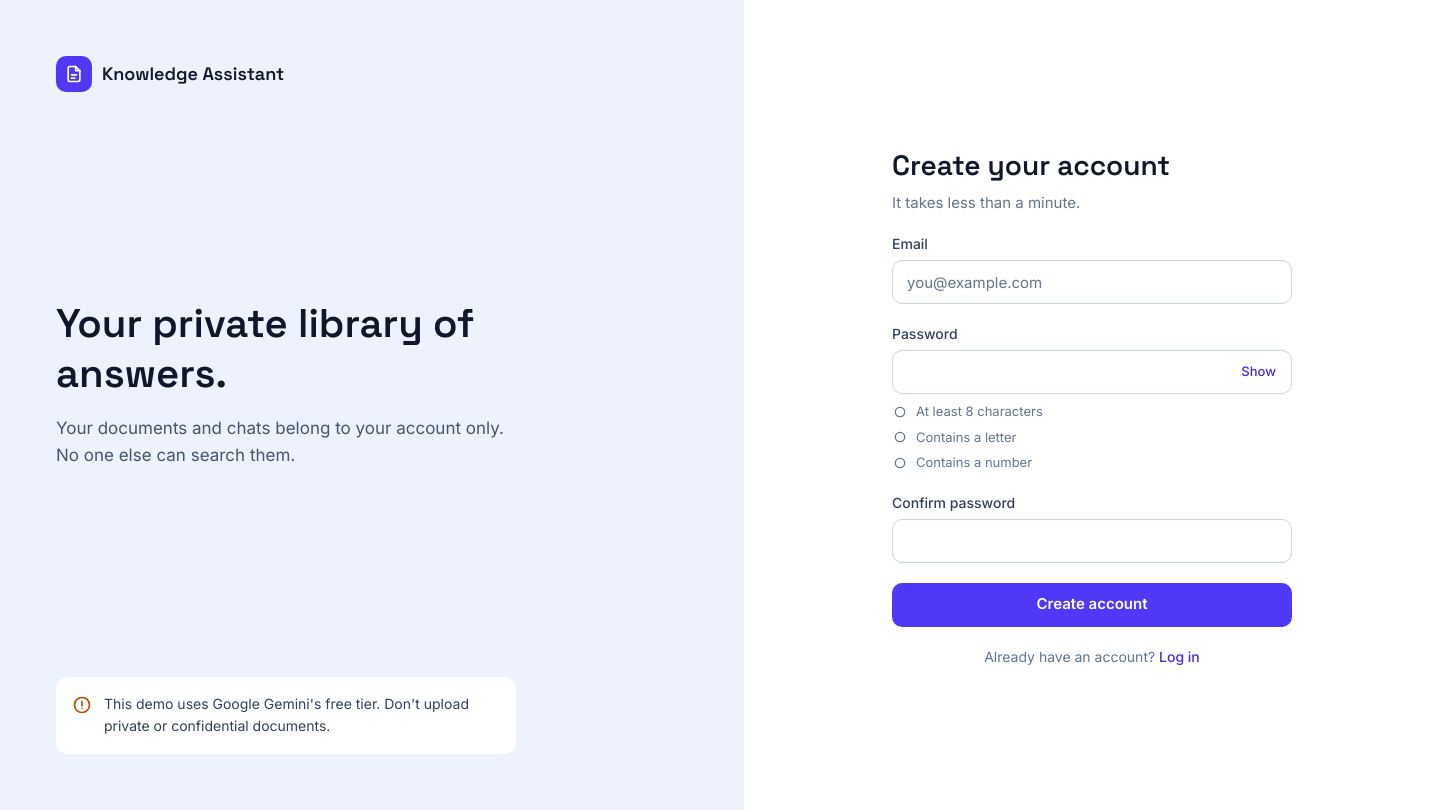
Test: RegisterPage › doesn't submit when the passwords don't match
The width and height of the screenshot is (1440, 810).
Type "new@example.com" into the field labelled "Email" at (1092, 282), box [892, 260, 1292, 304]
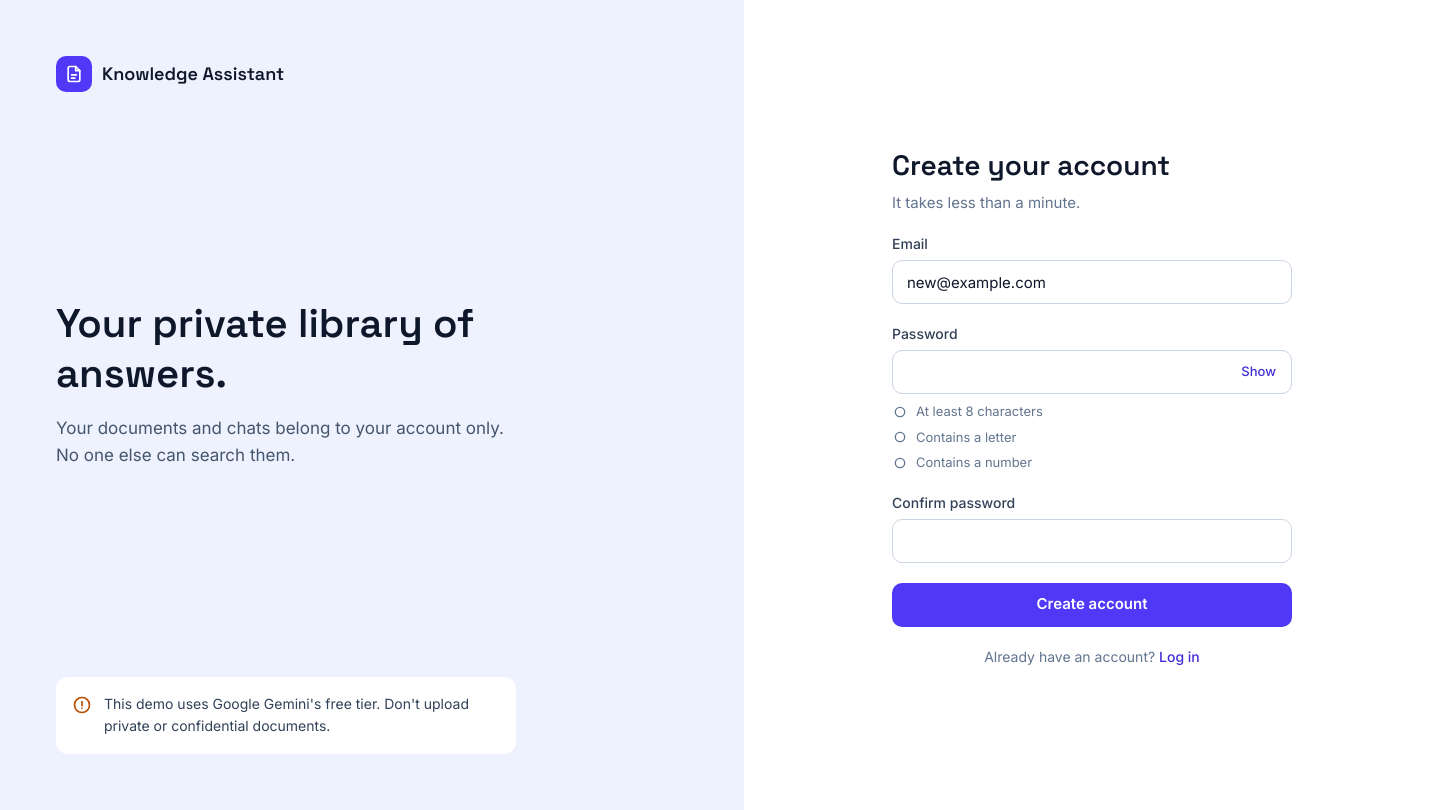
Type "Test12345" into the password field labelled "Password" at (1092, 372), box [892, 350, 1292, 394]
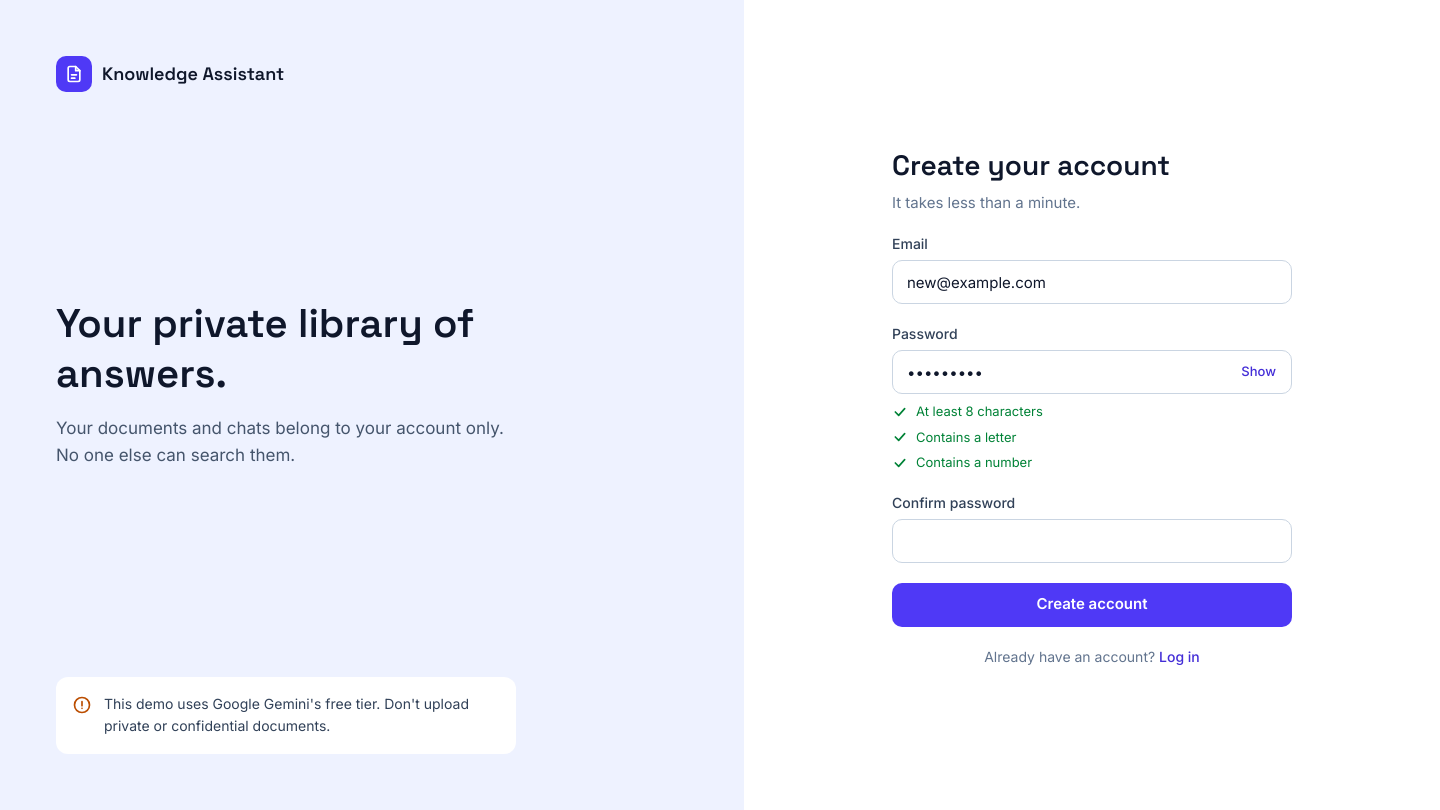
Type "Different123" into the password field labelled "Confirm password" at (1092, 540), box [892, 518, 1292, 562]
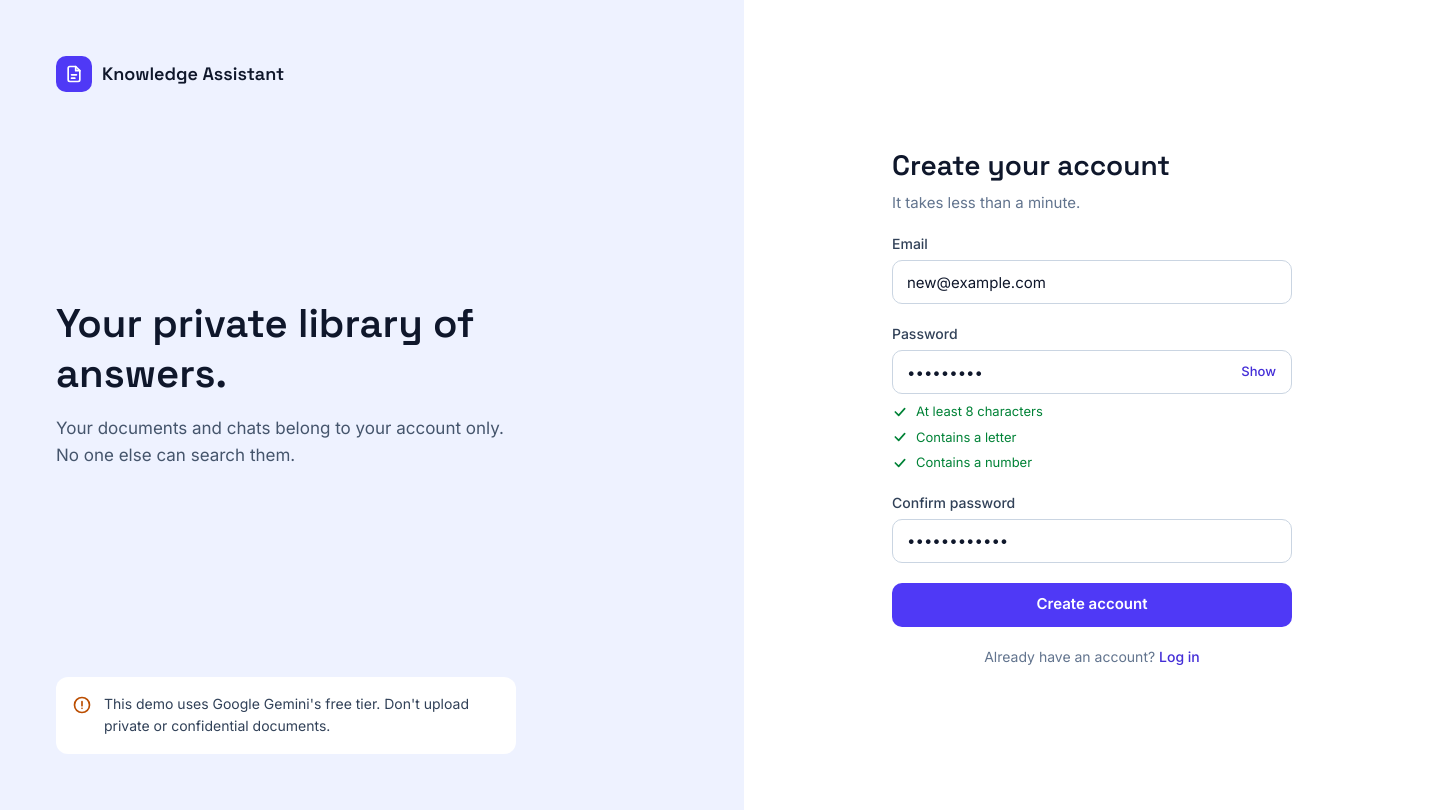
Click the button "Create account" at (1092, 604), box [892, 582, 1292, 626]
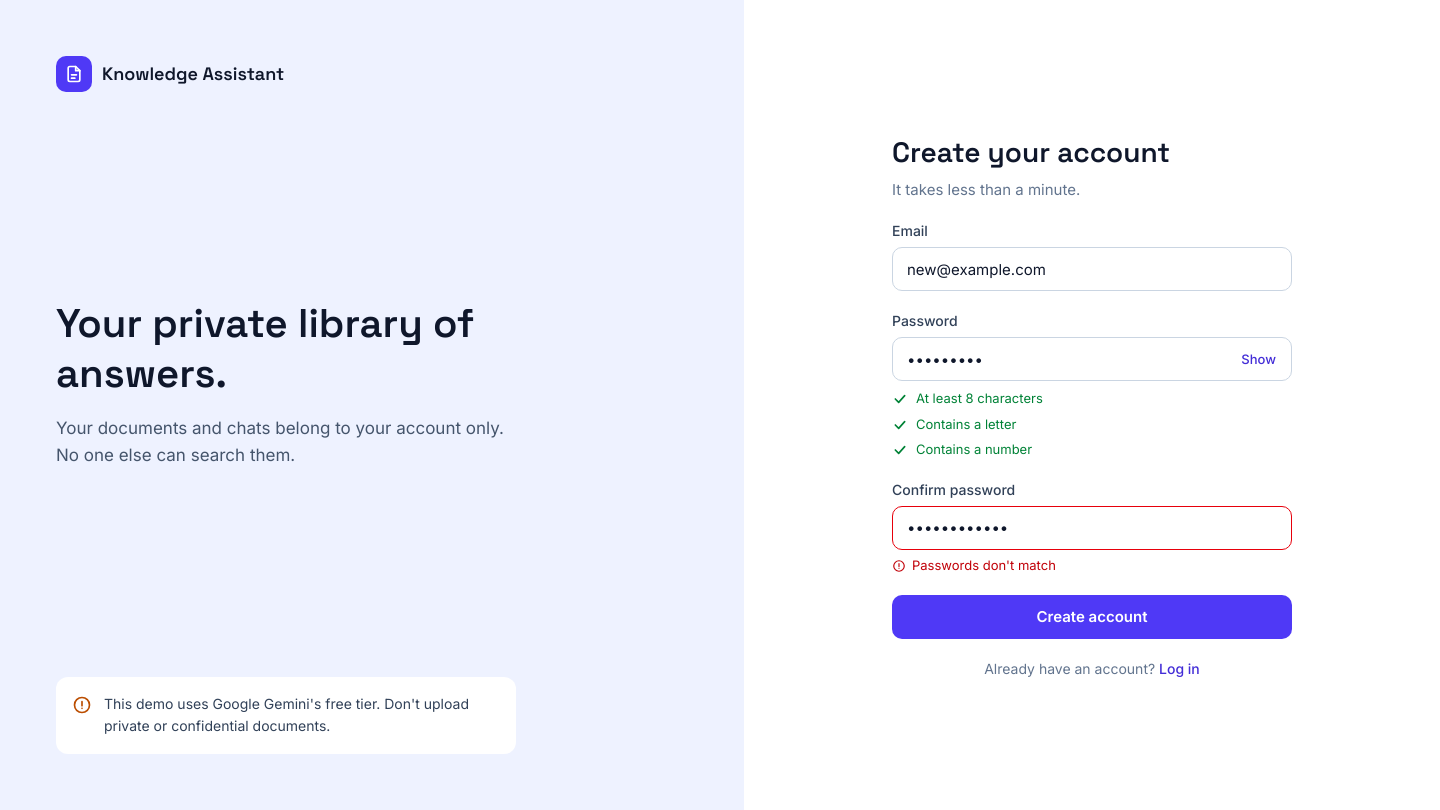
Now the text "Passwords don't match" is shown, box [892, 557, 1056, 573]
